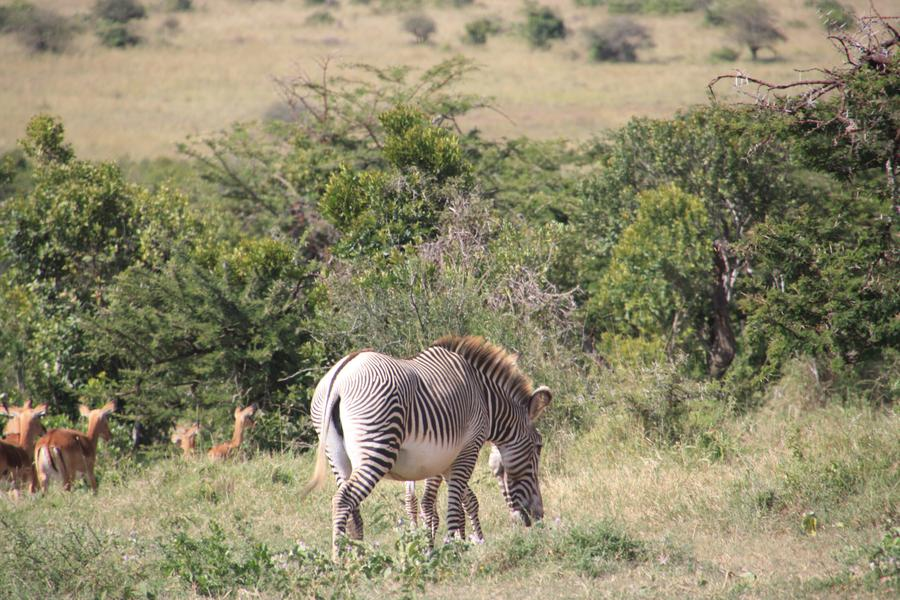zebra_grevys: (331, 355, 483, 447)
